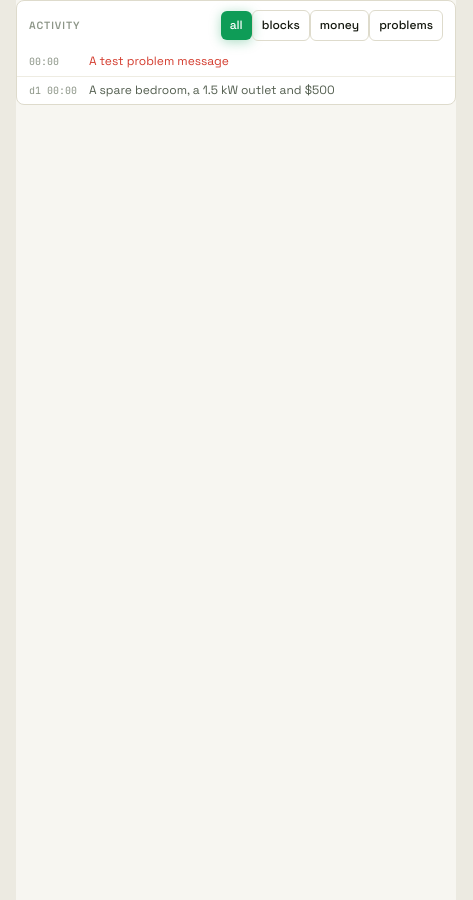
Test: Feed › filters entries by kind
Click the button "problems": (406, 26) [369,10,443,41]
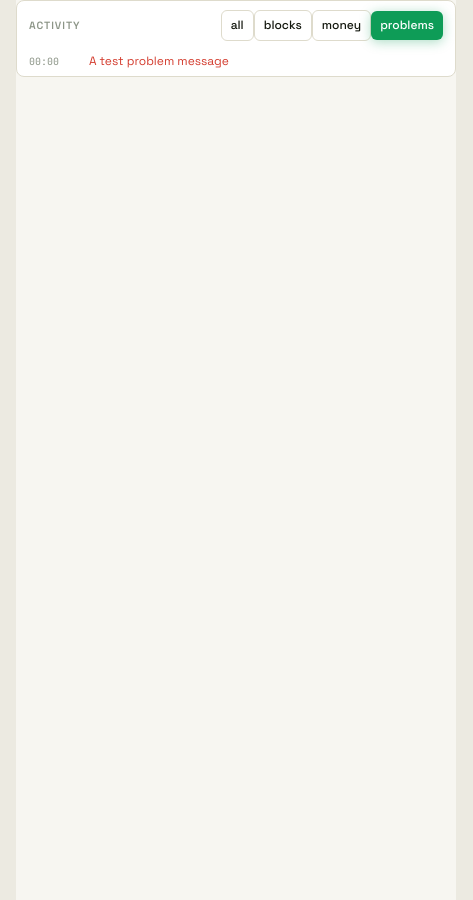
Expected: the text "A test problem message" is shown, [89,53,229,69]
Expected: the text "spare bedroom" is gone
Click the button "all": (237, 26) [221,10,254,41]
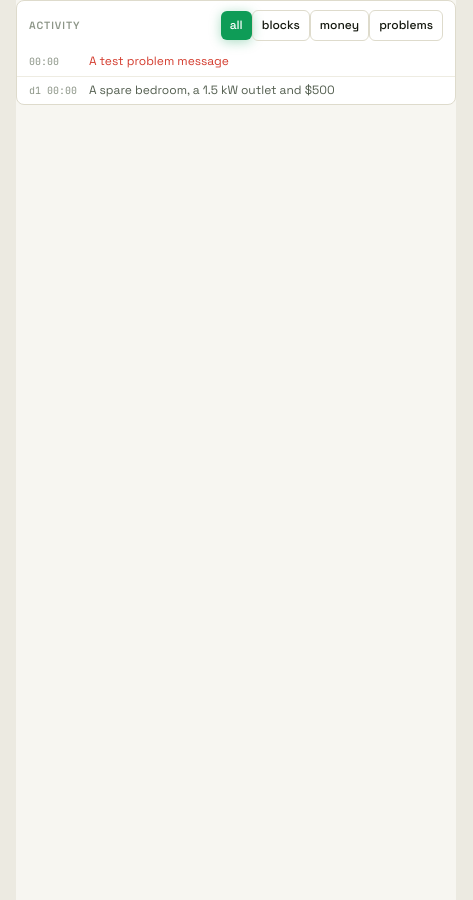
Expected: the text "spare bedroom" is shown, [89,82,335,98]
